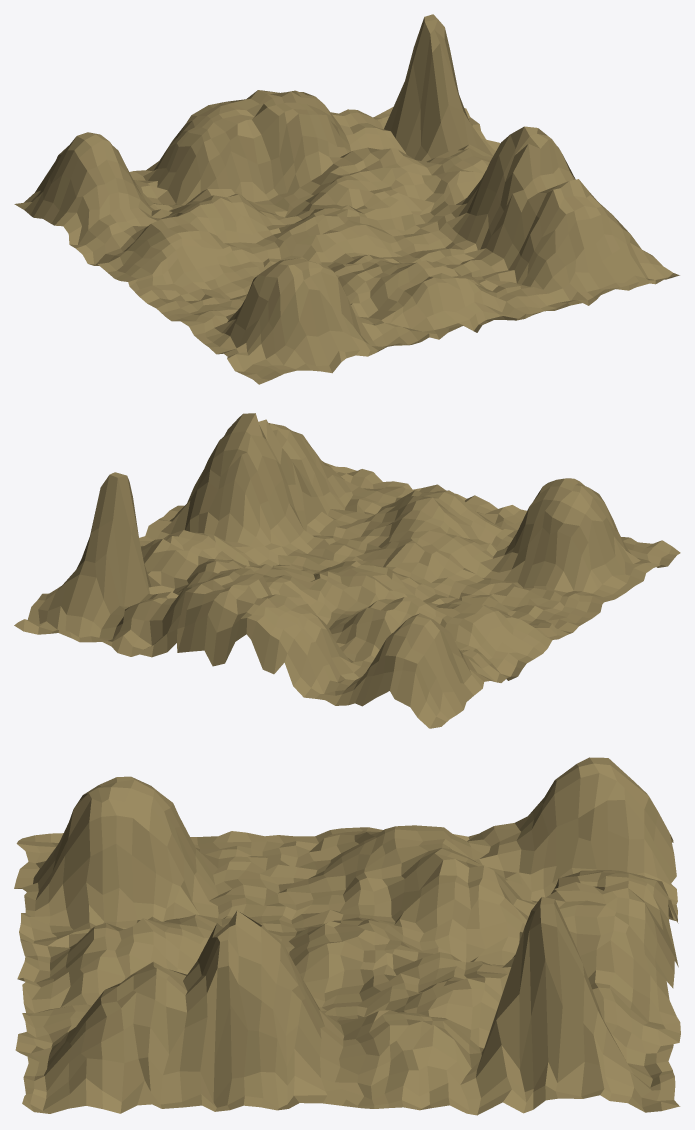
File: sand+sea.fbx
3 views of the same model, one above another, from view 1: azimuth 30°, elevation 25°; view 2: azimuth 150°, elevation 25°; view 3: azimuth 270°, elevation 25° (orthographic). The views are drawn at different scales.
Parts seen in each view (by area): view 1: fondo; view 2: fondo; view 3: fondo.
Boxes of the visible parts, box(x1,y1,x2,y2) form: fondo: box(14, 14, 679, 384); fondo: box(14, 413, 680, 728); fondo: box(14, 757, 680, 1115).
Size of the model in its own units: 20931 by 6437 by 20942.
